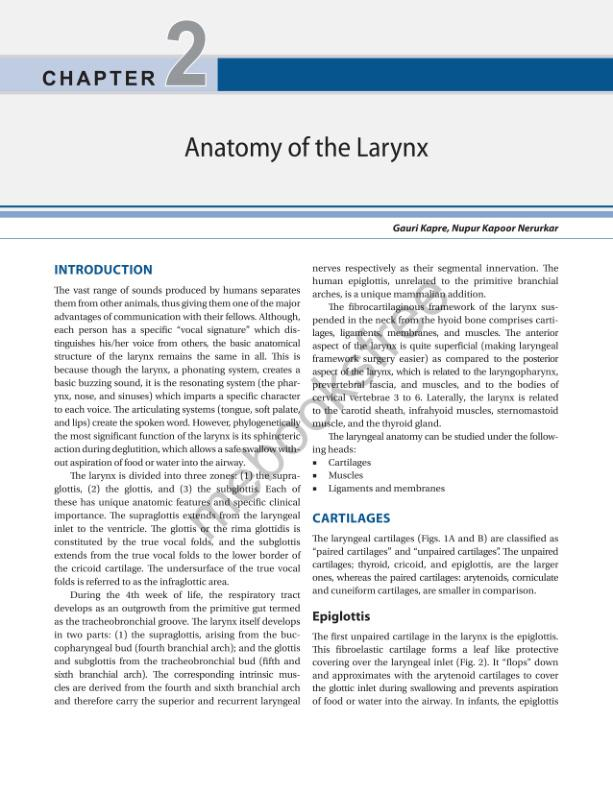chapter-heading: (181, 133, 432, 164)
section-heading: (53, 262, 154, 277), (311, 511, 392, 525)
sub-section-heading: (311, 609, 372, 626)
text: (51, 282, 304, 711), (310, 263, 561, 497), (310, 630, 560, 709), (310, 531, 563, 598)
